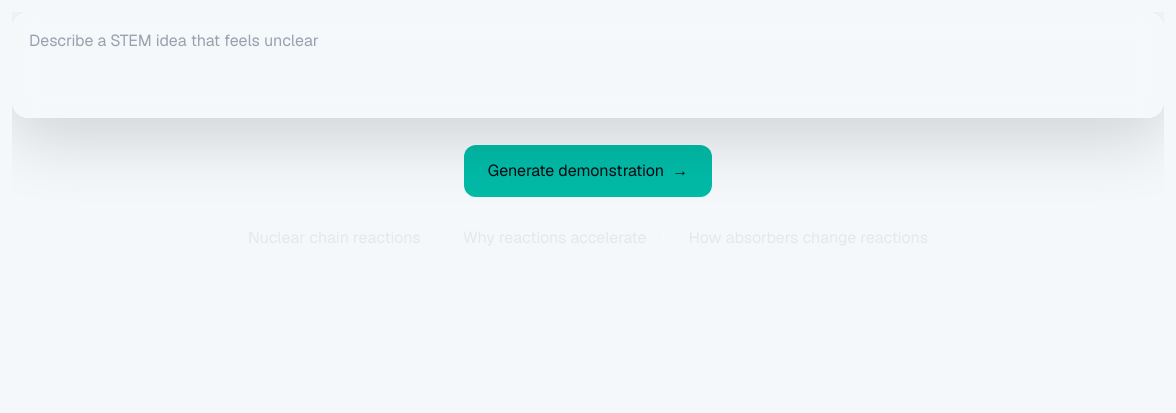
AskDemoForm › renders staged progress while the request is pending
This screenshot has width=1176, height=413.
Type "Show why planets stay in orbit." into the text box named "What topic do you need help with?".
click(588, 65); type("Show why planets stay in orbit.")  # box top-left (12, 12), bottom-right (1164, 118)
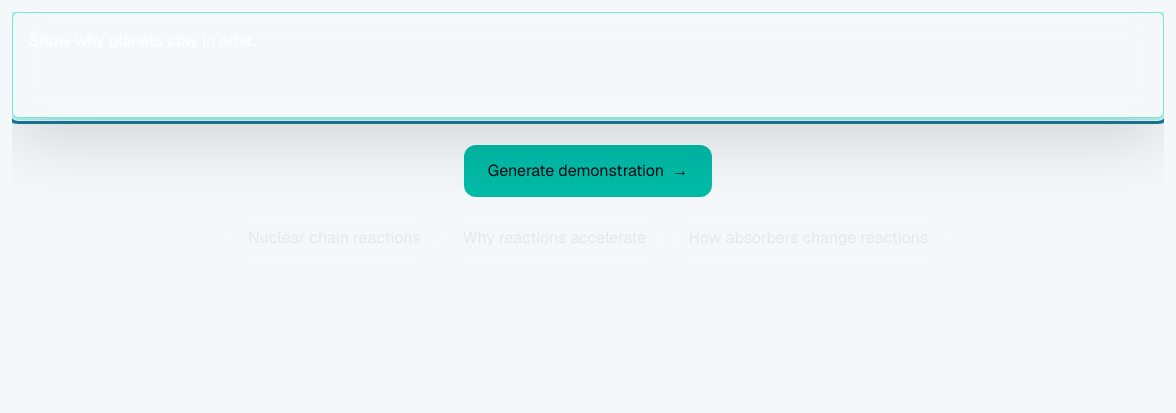
Click the button "Generate demonstration →".
click(588, 171)  # box top-left (464, 145), bottom-right (712, 197)
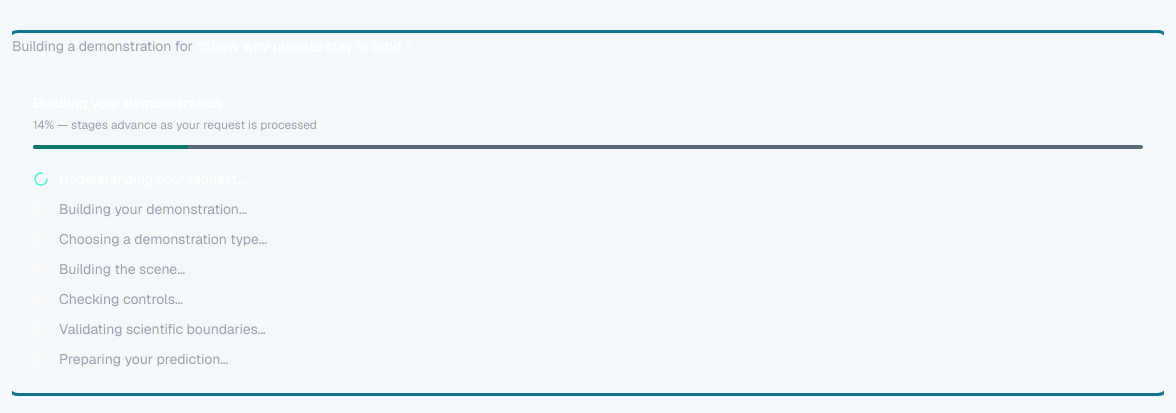
Result: the text "Building your demonstration…" is shown at top-left (59, 199), bottom-right (247, 219)
